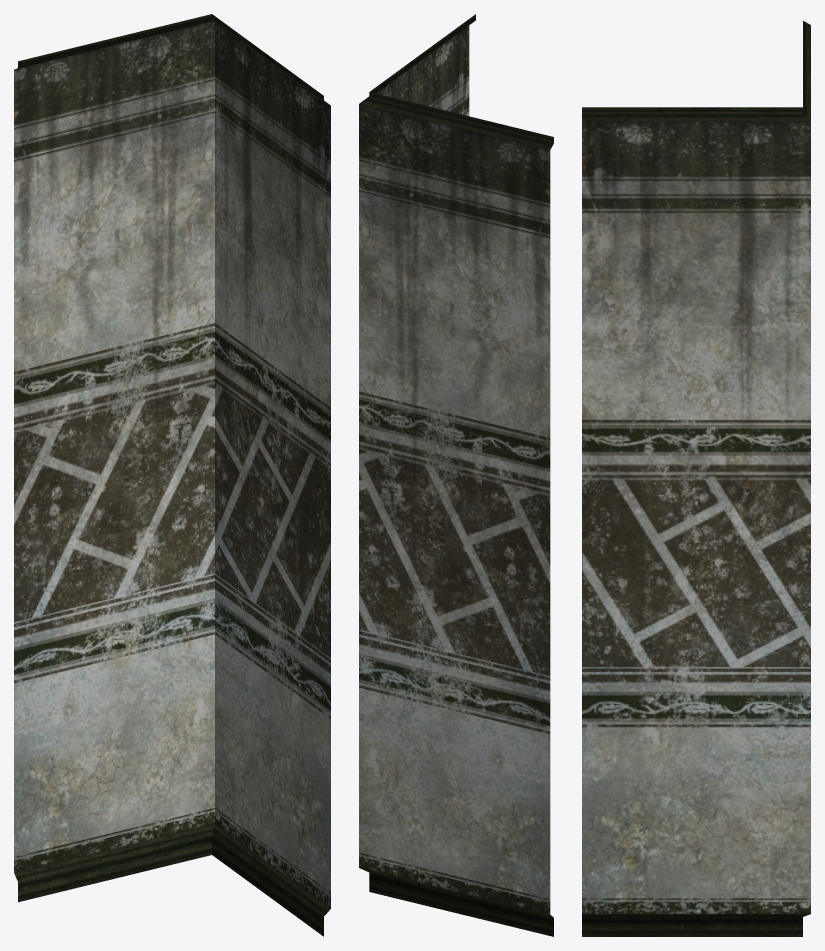
File: waitingroom_damage_concave_short.dae
3 renders of one model, left to right at view 1: azimuth 30°, elevation 25°; view 2: azimuth 150°, elevation 25°; view 3: azimuth 270°, elevation 25°, orthographic. The views are drawn at different scales.
Parts seen in each view (by area): view 1: polySurface13; view 2: polySurface13; view 3: polySurface13.
Part boxes in pixels (left/top/right/bottom): polySurface13: left=14, top=14, right=330, bottom=936; polySurface13: left=359, top=14, right=553, bottom=936; polySurface13: left=582, top=21, right=810, bottom=936.
Bounding box in the file's own units: 1 × 4 × 1.
